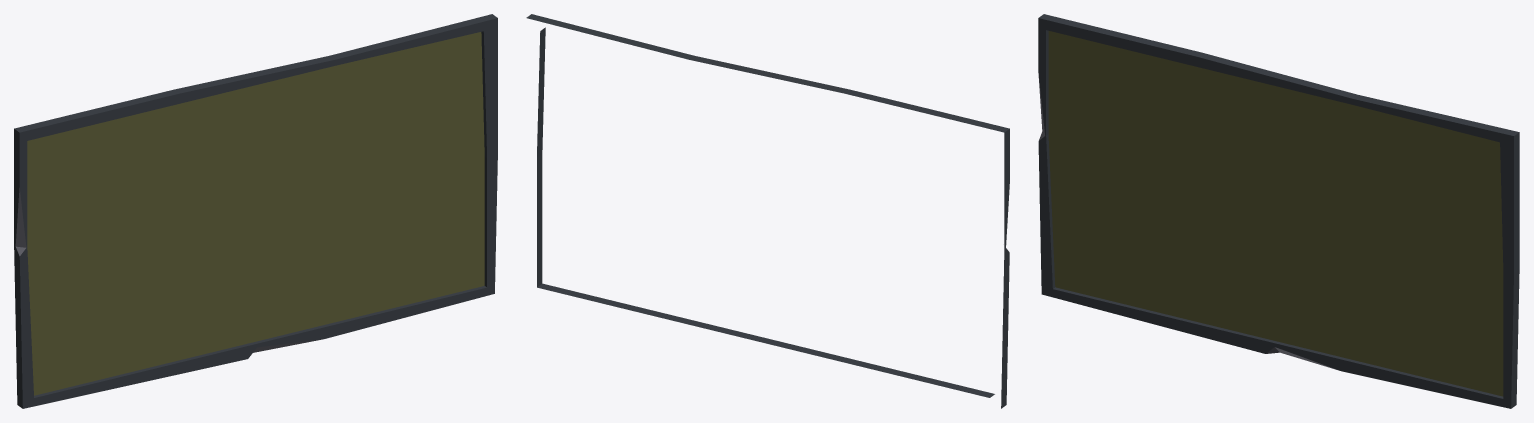
The model's file is SM_Chalk_Board_B.gltf.
3 views of the same model, side by side, from view 1: azimuth 30°, elevation 25°; view 2: azimuth 150°, elevation 25°; view 3: azimuth 330°, elevation 25° (orthographic).
Parts seen in each view (by area): view 1: SM_Chalk_Board_B; view 2: SM_Chalk_Board_B; view 3: SM_Chalk_Board_B.
Part boxes in pixels (x1,y1,x2,y2): SM_Chalk_Board_B: [14, 14, 497, 408]; SM_Chalk_Board_B: [526, 14, 1009, 408]; SM_Chalk_Board_B: [1038, 14, 1519, 408].
Size of the model in its own units: 2.01 by 1.14 by 0.0403.
Materials: 1 (1 with a texture image).
